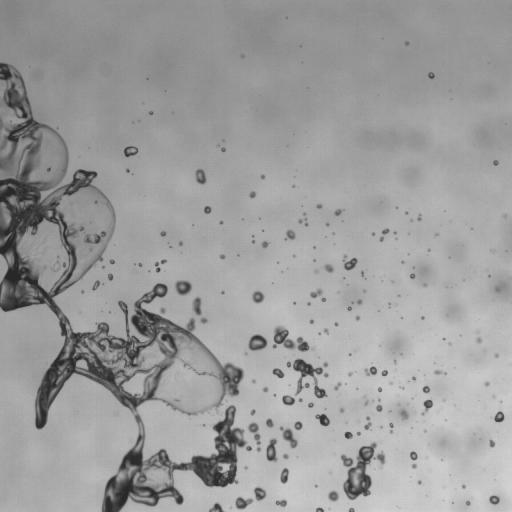droplet: (340, 442, 384, 500), (286, 358, 328, 399), (248, 334, 267, 350), (175, 280, 191, 295), (235, 496, 253, 509), (343, 255, 357, 270), (315, 413, 330, 426), (310, 289, 325, 301), (254, 486, 266, 500), (195, 169, 206, 184), (192, 297, 201, 315), (252, 291, 264, 303), (123, 146, 137, 156), (282, 395, 296, 405), (280, 468, 289, 483), (327, 490, 338, 501), (272, 368, 284, 378), (364, 366, 377, 375), (494, 411, 504, 422), (298, 217, 308, 226), (285, 230, 295, 239), (489, 495, 499, 504), (324, 264, 333, 272), (92, 281, 101, 289), (400, 410, 408, 419), (294, 421, 302, 430), (276, 499, 286, 506), (344, 431, 352, 439), (45, 139, 52, 148), (266, 418, 273, 427), (410, 451, 417, 460), (334, 382, 341, 390), (204, 206, 211, 213), (422, 386, 429, 393), (334, 209, 342, 215), (249, 191, 255, 198), (262, 241, 269, 247), (200, 317, 207, 323), (376, 404, 382, 411), (428, 72, 434, 78), (108, 273, 113, 280), (489, 440, 494, 447), (476, 337, 481, 343), (381, 370, 387, 375), (250, 409, 255, 415), (493, 160, 498, 165), (484, 381, 489, 386), (263, 387, 268, 392), (308, 402, 313, 407), (283, 454, 288, 459), (316, 204, 322, 208), (417, 214, 421, 220), (495, 286, 499, 292), (324, 328, 328, 334), (161, 231, 165, 236), (220, 254, 224, 259), (109, 259, 114, 263), (410, 273, 414, 278), (357, 299, 361, 304), (309, 319, 313, 324), (340, 407, 344, 412), (412, 464, 417, 468), (348, 508, 354, 511), (221, 147, 225, 151), (355, 316, 359, 320), (334, 322, 338, 326), (494, 353, 498, 357), (466, 501, 470, 505), (261, 174, 264, 179), (347, 307, 351, 310), (412, 377, 416, 380), (149, 111, 152, 114), (326, 223, 329, 226), (179, 242, 182, 245), (138, 263, 141, 266), (393, 360, 396, 363), (348, 372, 351, 375), (252, 379, 255, 382), (378, 388, 381, 391), (299, 398, 302, 401), (365, 401, 368, 404), (357, 432, 360, 435), (462, 485, 465, 488), (405, 42, 408, 44), (126, 169, 129, 171), (98, 211, 101, 213), (220, 221, 222, 224), (315, 270, 317, 273), (361, 272, 363, 275), (418, 481, 421, 483), (303, 212, 305, 214), (372, 233, 374, 235), (252, 240, 254, 242), (56, 261, 58, 263), (390, 382, 392, 384), (400, 387, 402, 389)
ligament: (0, 62, 251, 511), (272, 325, 313, 351), (248, 422, 261, 451), (280, 427, 297, 448), (266, 438, 277, 461), (422, 399, 433, 415), (208, 502, 224, 511), (155, 259, 166, 272), (379, 228, 389, 241), (364, 416, 371, 429), (434, 370, 445, 374), (389, 423, 393, 433), (315, 507, 324, 511)
